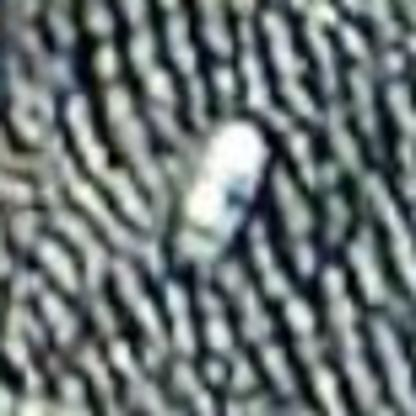ship: (162, 106, 278, 273)
